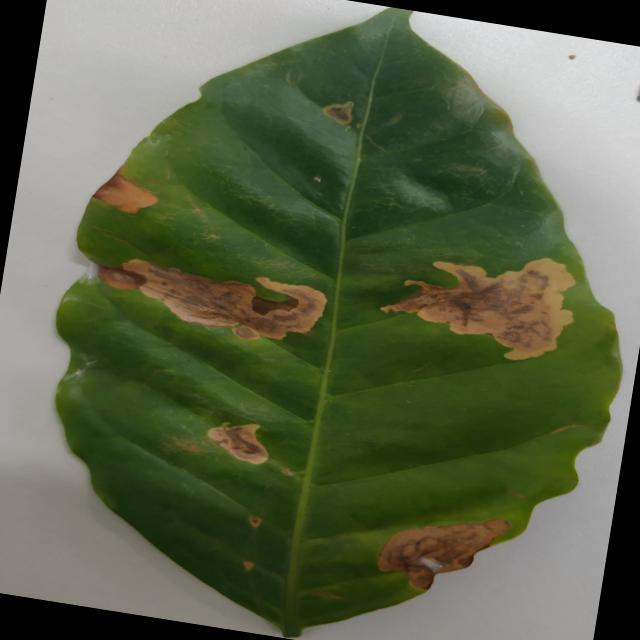PengorokDaunKopi: (382, 258, 575, 360), (99, 259, 327, 339), (378, 519, 511, 590), (93, 171, 158, 213), (208, 422, 268, 464), (161, 436, 205, 454), (322, 101, 354, 124), (313, 592, 343, 599), (249, 514, 262, 528), (243, 561, 254, 571)
